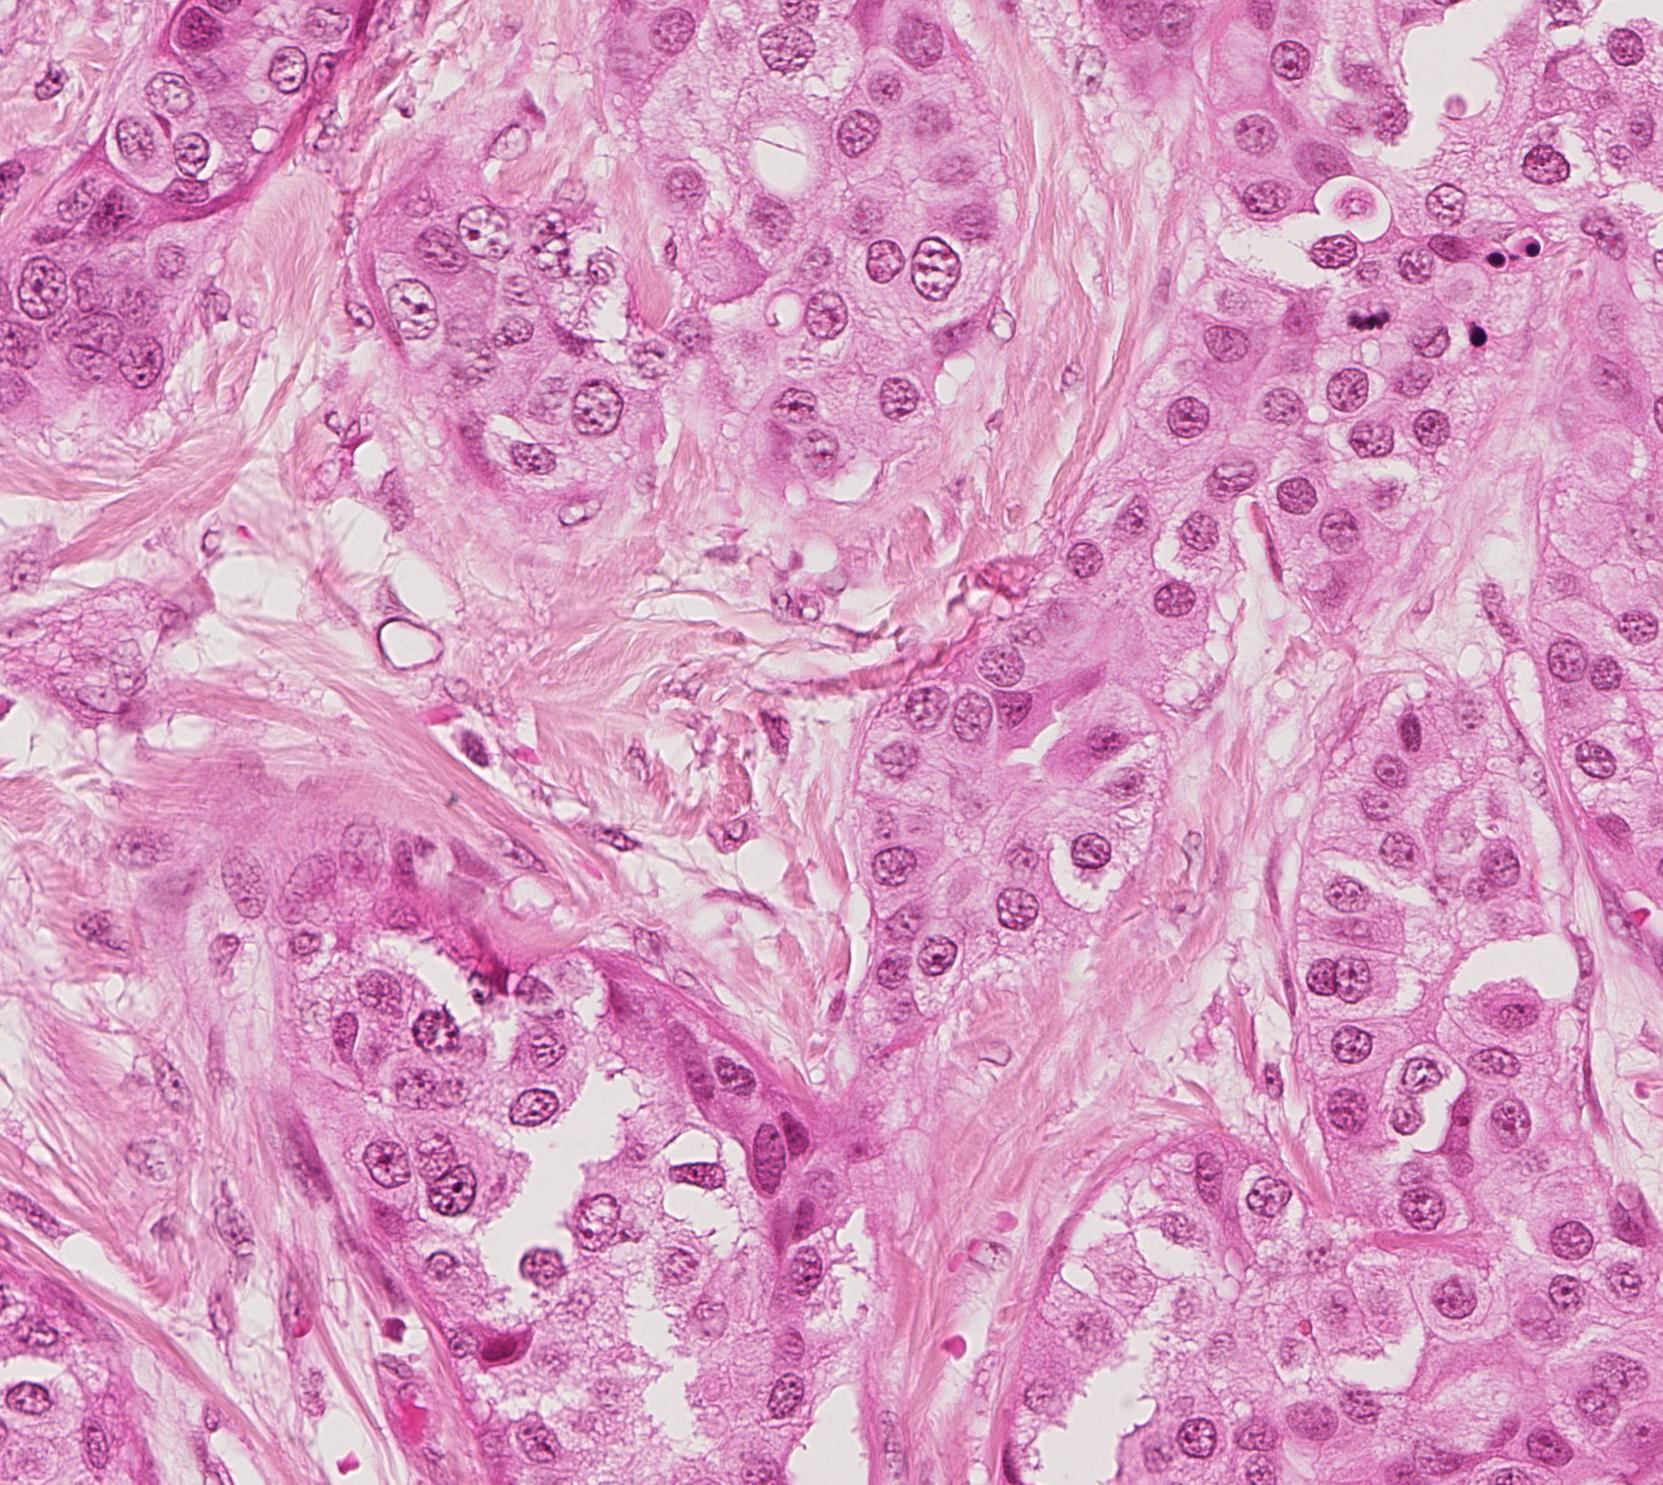mitosis: (1335, 287, 1395, 345)
